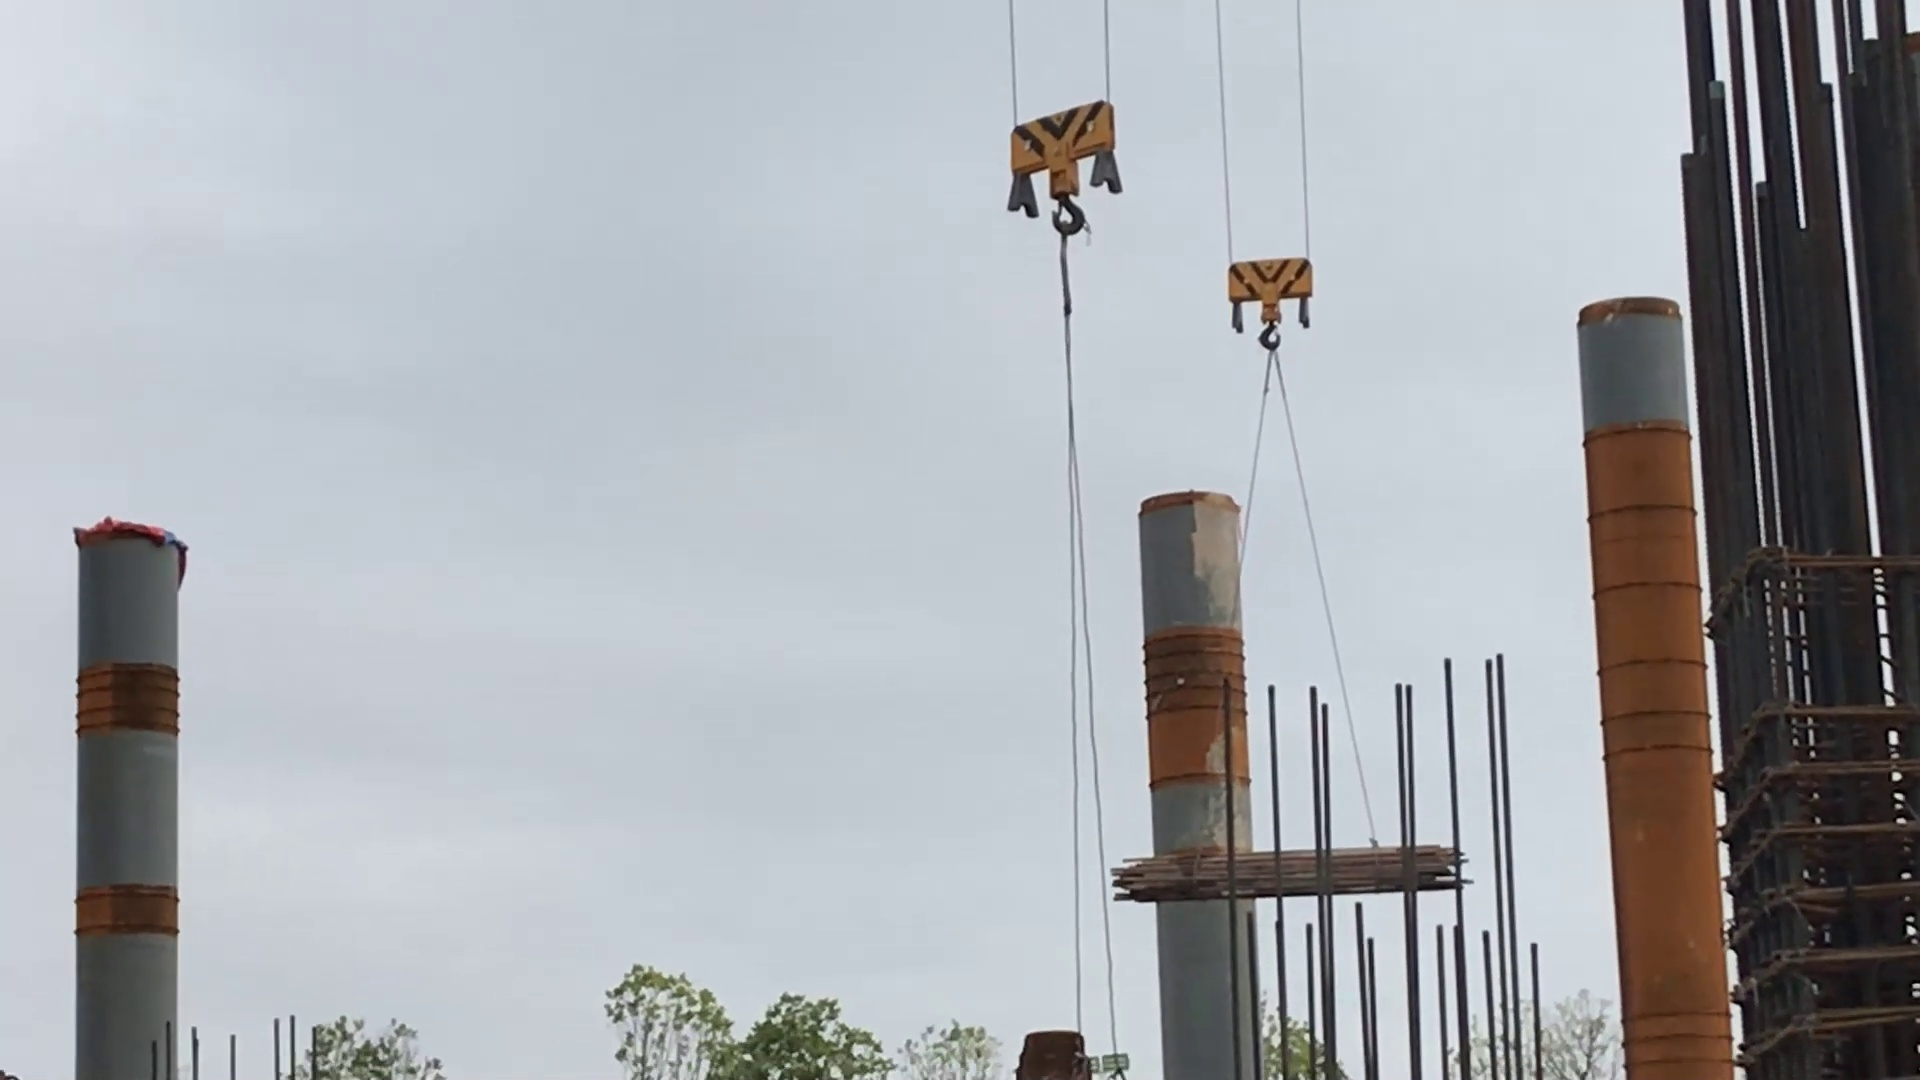hook: (1006, 100, 1135, 258), (1215, 252, 1327, 371)
wood: (1108, 837, 1474, 905)
